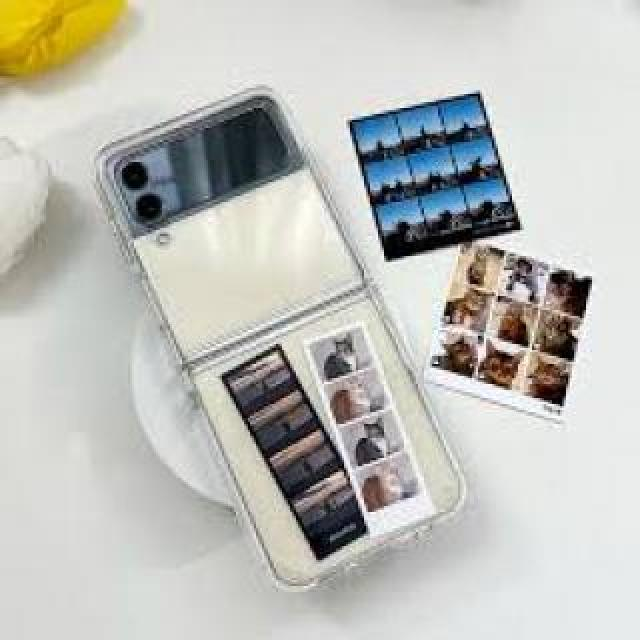smart phone: (84, 85, 374, 593)
